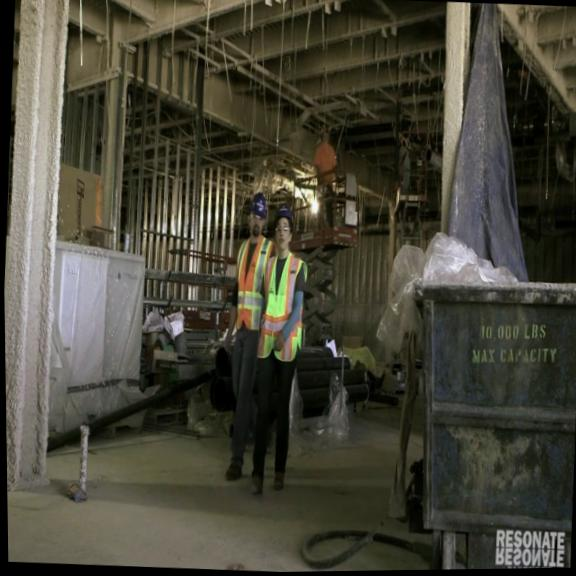safety_vest: (255, 247, 309, 362), (232, 234, 277, 332)
